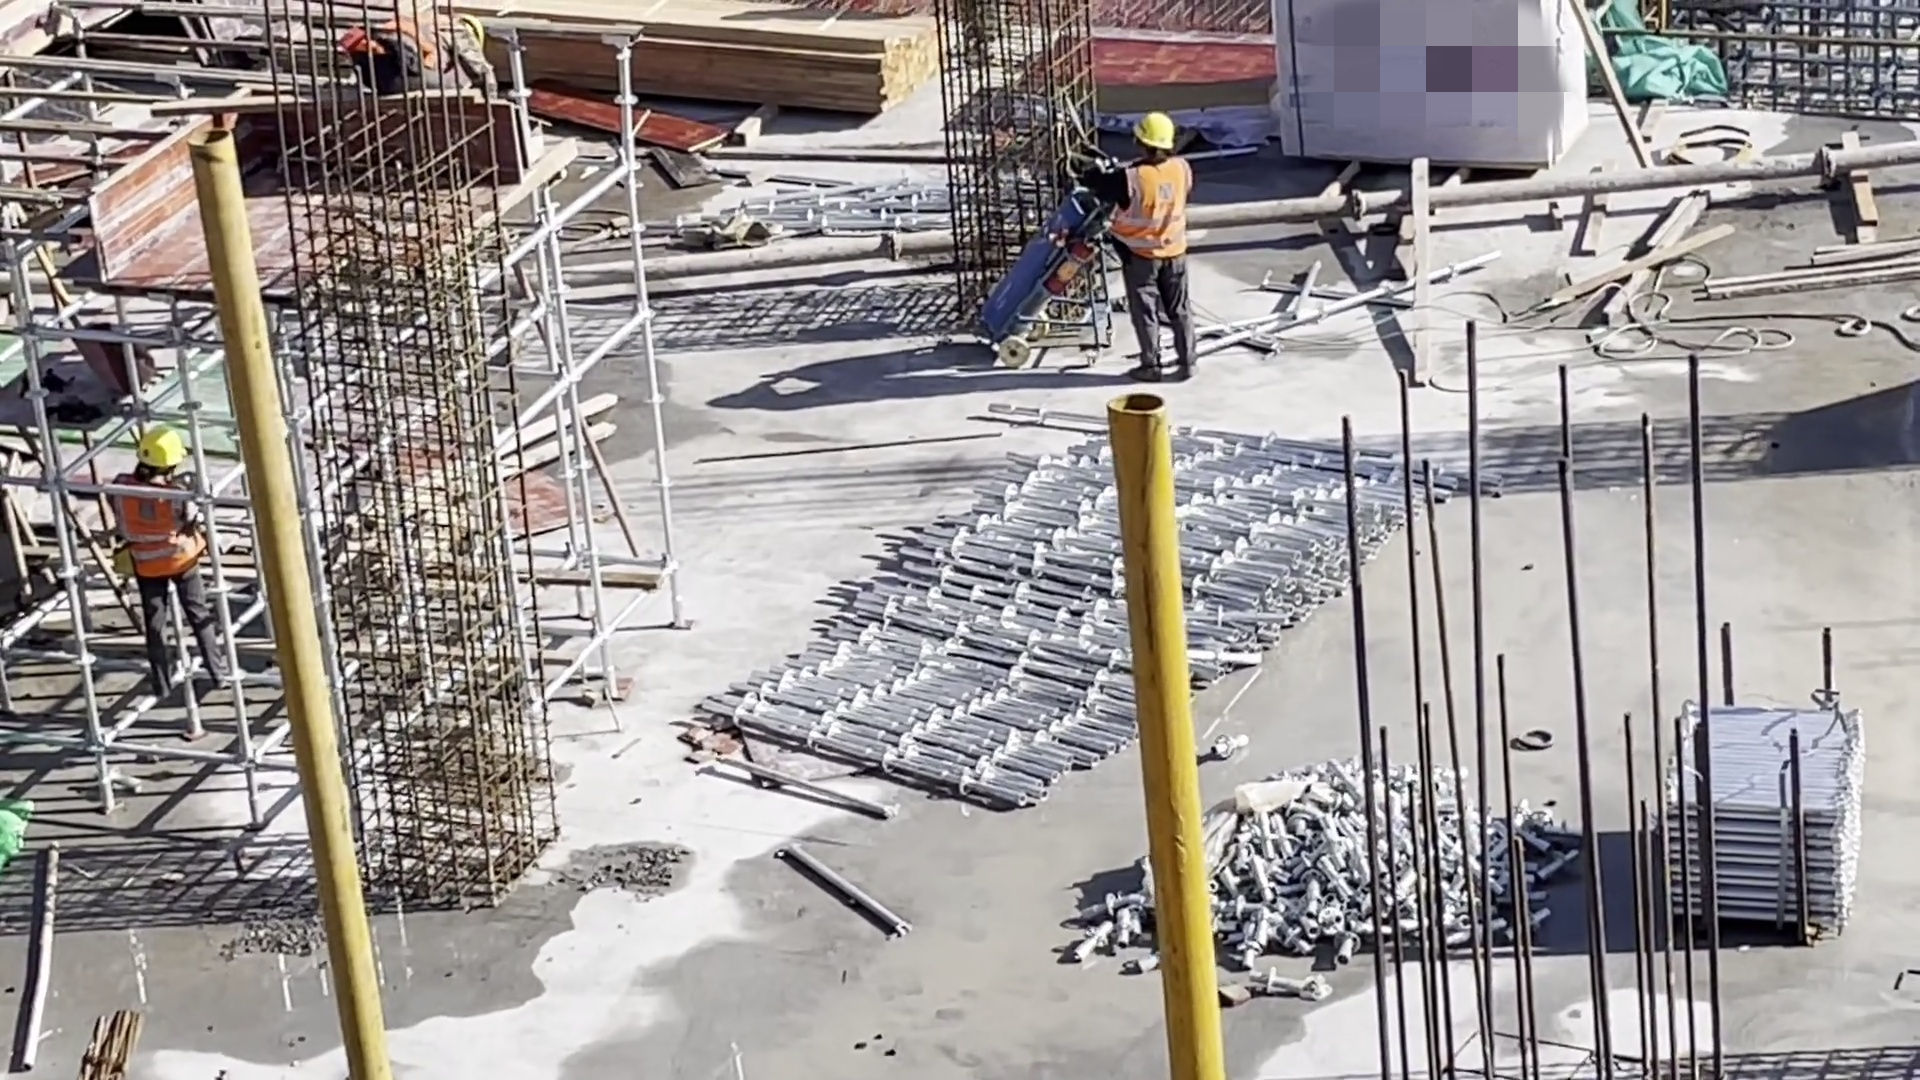helmet: (132, 428, 188, 465), (1137, 117, 1180, 153), (463, 17, 484, 43)
person: (1095, 116, 1206, 390), (115, 427, 223, 706), (334, 12, 497, 102)
vest: (118, 469, 203, 580), (1114, 156, 1188, 260), (351, 13, 454, 69)
